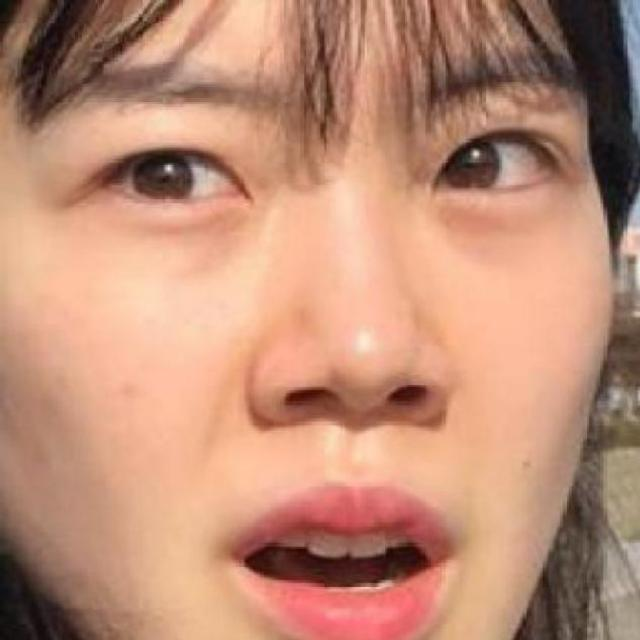Surprised: (15, 13, 640, 640)
